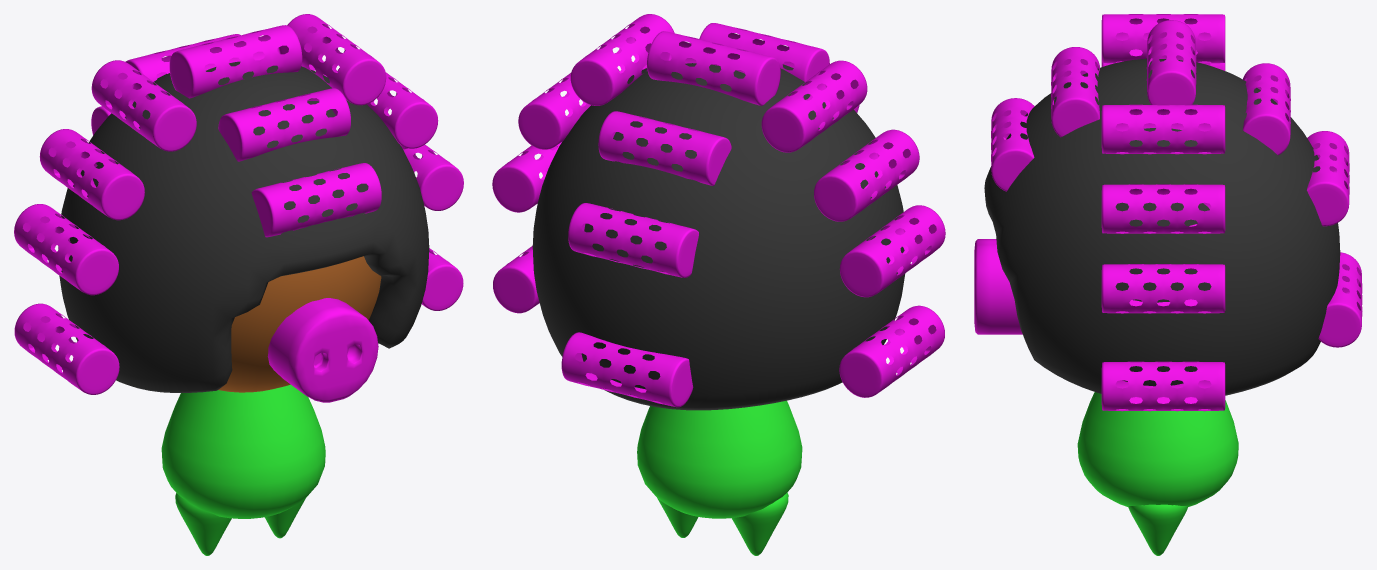
Rendered from Model_Abuela.FBX.
3 views of the same model, side by side, from view 1: azimuth 30°, elevation 25°; view 2: azimuth 150°, elevation 25°; view 3: azimuth 270°, elevation 25° (orthographic). The views are drawn at different scales.
Parts seen in each view (by area): view 1: Abuela_Pelo, Abuela_Rulo, Abuela_Cuerpo, Abuela_ModePig, Abuela_Cabeza, Abuela_Pier_Der, Abuela_Pier_Izq; view 2: Abuela_Pelo, Abuela_Rulo, Abuela_Cuerpo, Abuela_Pier_Der, Abuela_Pier_Izq; view 3: Abuela_Pelo, Abuela_Rulo, Abuela_Cuerpo, Abuela_ModePig, Abuela_Pier_Izq.
Part boxes in pixels (left/top/right/bottom): Abuela_Pelo: left=58, top=61, right=429, bottom=392; Abuela_Rulo: left=14, top=14, right=463, bottom=394; Abuela_Cuerpo: left=161, top=384, right=325, bottom=518; Abuela_ModePig: left=267, top=298, right=378, bottom=402; Abuela_Cabeza: left=218, top=256, right=381, bottom=392; Abuela_Pier_Der: left=175, top=493, right=231, bottom=555; Abuela_Pier_Izq: left=264, top=499, right=305, bottom=538; Abuela_Pelo: left=532, top=54, right=904, bottom=410; Abuela_Rulo: left=492, top=14, right=945, bottom=407; Abuela_Cuerpo: left=637, top=400, right=802, bottom=518; Abuela_Pier_Der: left=731, top=492, right=788, bottom=555; Abuela_Pier_Izq: left=657, top=498, right=698, bottom=537; Abuela_Pelo: left=984, top=58, right=1340, bottom=395; Abuela_Rulo: left=991, top=14, right=1362, bottom=411; Abuela_Cuerpo: left=1077, top=392, right=1238, bottom=506; Abuela_ModePig: left=974, top=239, right=1022, bottom=334; Abuela_Pier_Izq: left=1128, top=504, right=1187, bottom=555.
Size of the model in its own units: 92.41 by 114 by 81.48.
